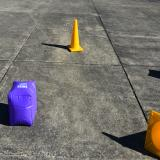cone: (144, 110, 160, 157), (67, 19, 83, 52)
cube: (8, 80, 38, 126)
